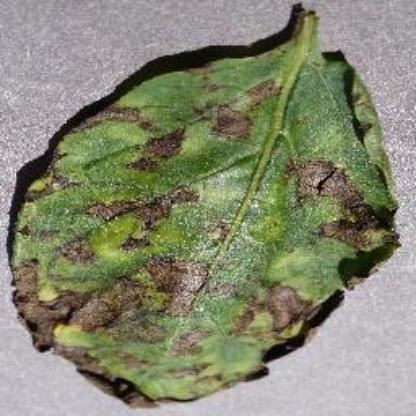Early-Blight: (11, 8, 400, 406)
